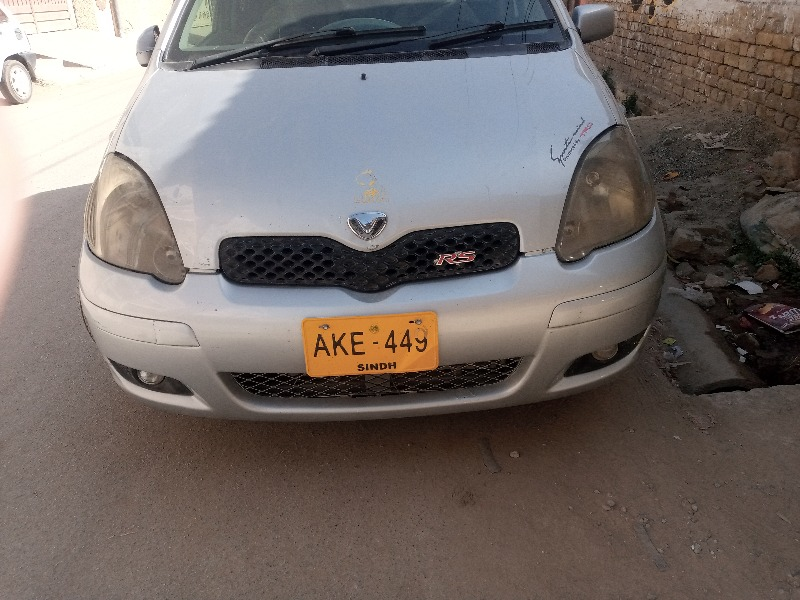License Plate: (298, 312, 448, 380)
